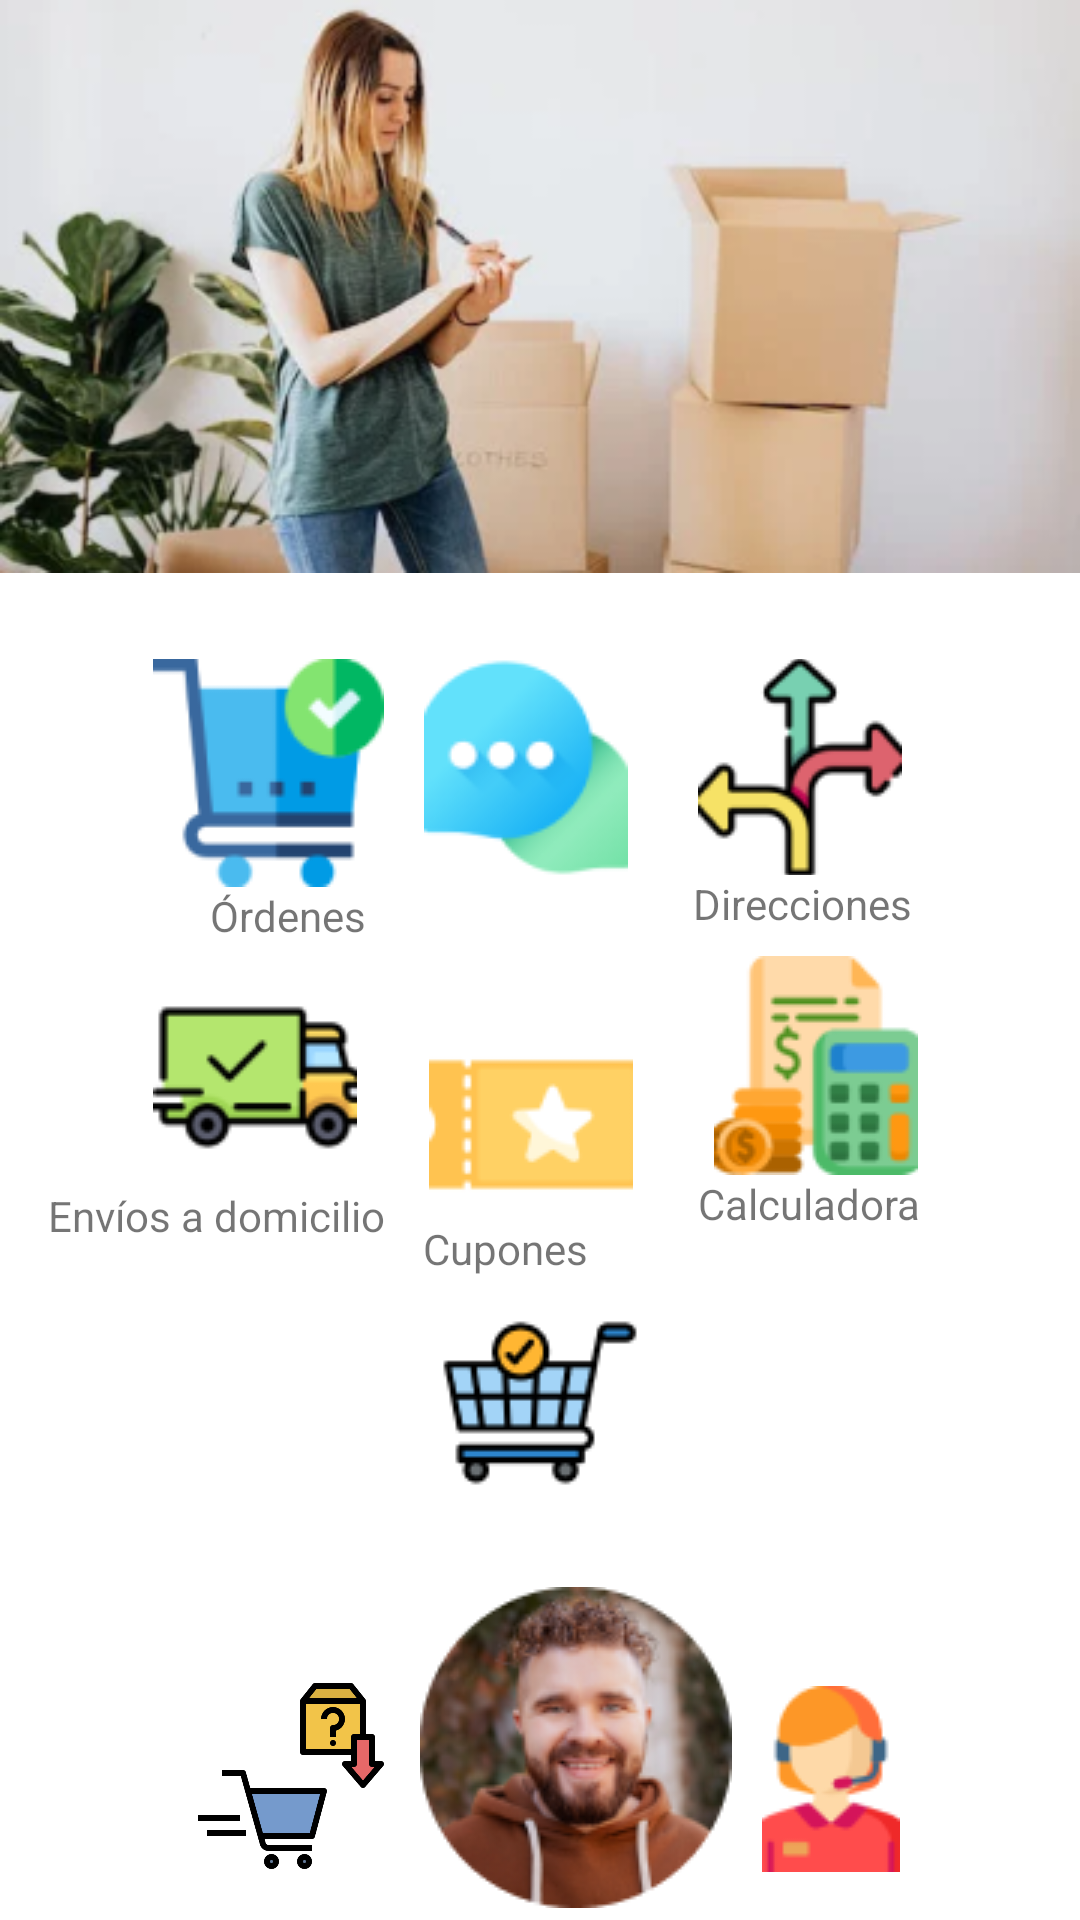

Point at icon controls on the screen. Image size 1080x1920, points as [x,y].
Chats: [526,767]
customer service: [831,1779]
perfil: [576,1747]
